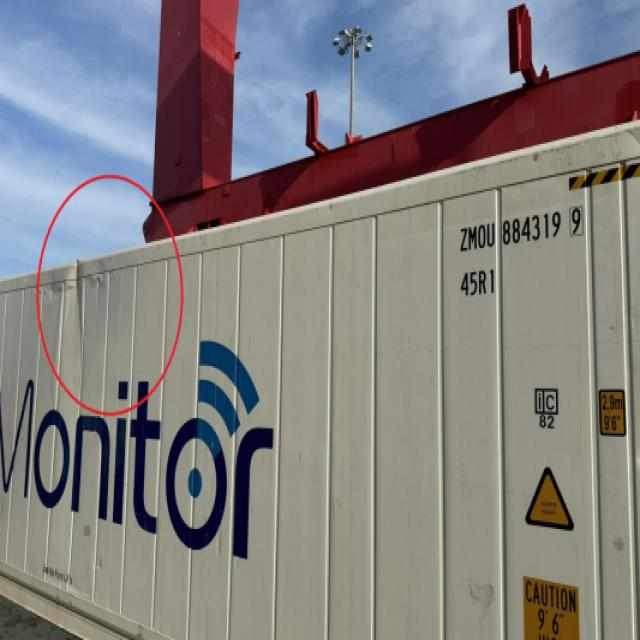dent: (48, 251, 117, 337)
